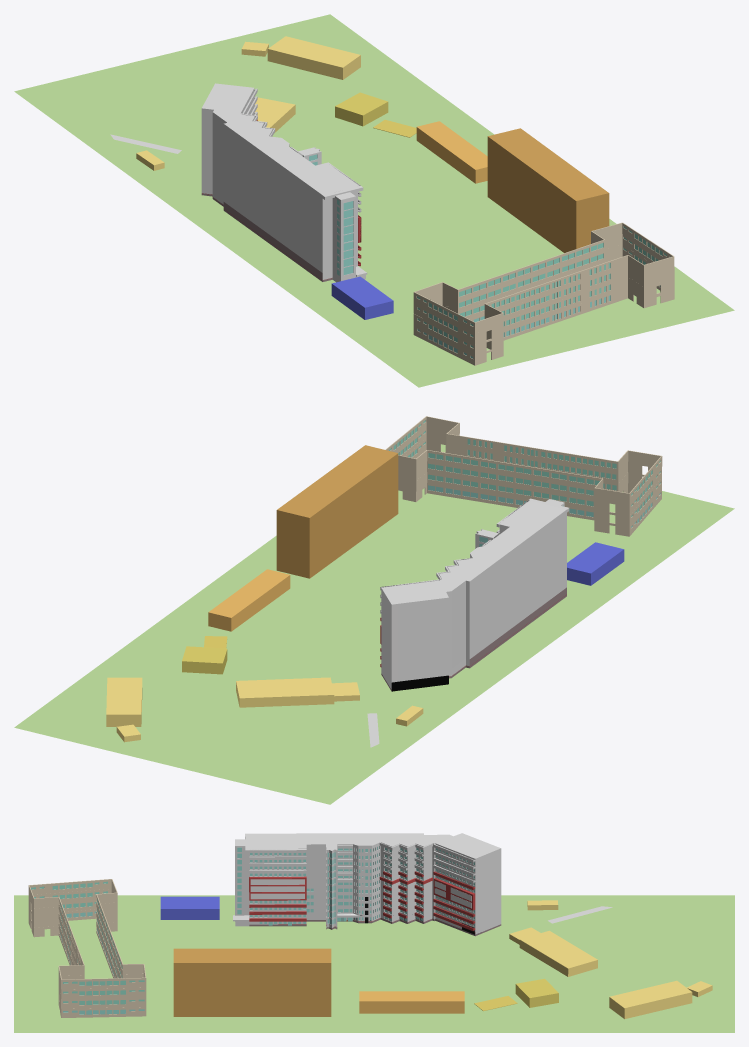
Rendered from test this.glb.
3 renders of one model, top to bottom at view 1: azimuth 30°, elevation 25°; view 2: azimuth 150°, elevation 25°; view 3: azimuth 270°, elevation 25°, orthographic. The views are drawn at different scales.
Parts seen in each view (by area): view 1: Plane.001; view 2: Plane.001; view 3: Plane.001.
Part boxes in pixels (box(x1,y1,x2,y2)): Plane.001: box(14, 14, 734, 387); Plane.001: box(14, 416, 734, 804); Plane.001: box(14, 833, 734, 1032).
Bounding box in the file's own units: 53.47 × 14.66 × 119.
